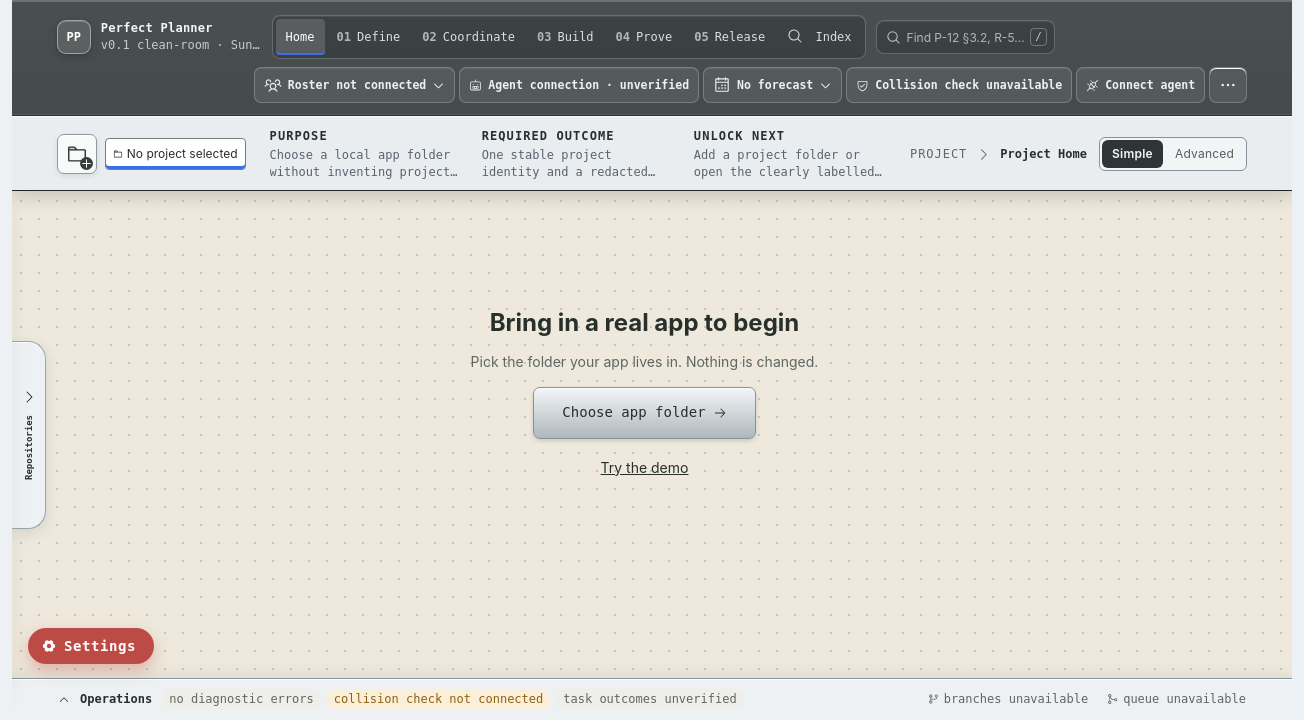
Test: project Home consumes the project-home model › empty Home is a short screen: headline, Choose app folder, and a demo link
Expected: the heading "Bring in a real app to begin" is shown, [490, 308, 799, 337]
Expected: the button "Try the demo" is shown, [596, 453, 692, 482]
Click the button "Choose app folder" at (644, 413), box [533, 387, 756, 439]
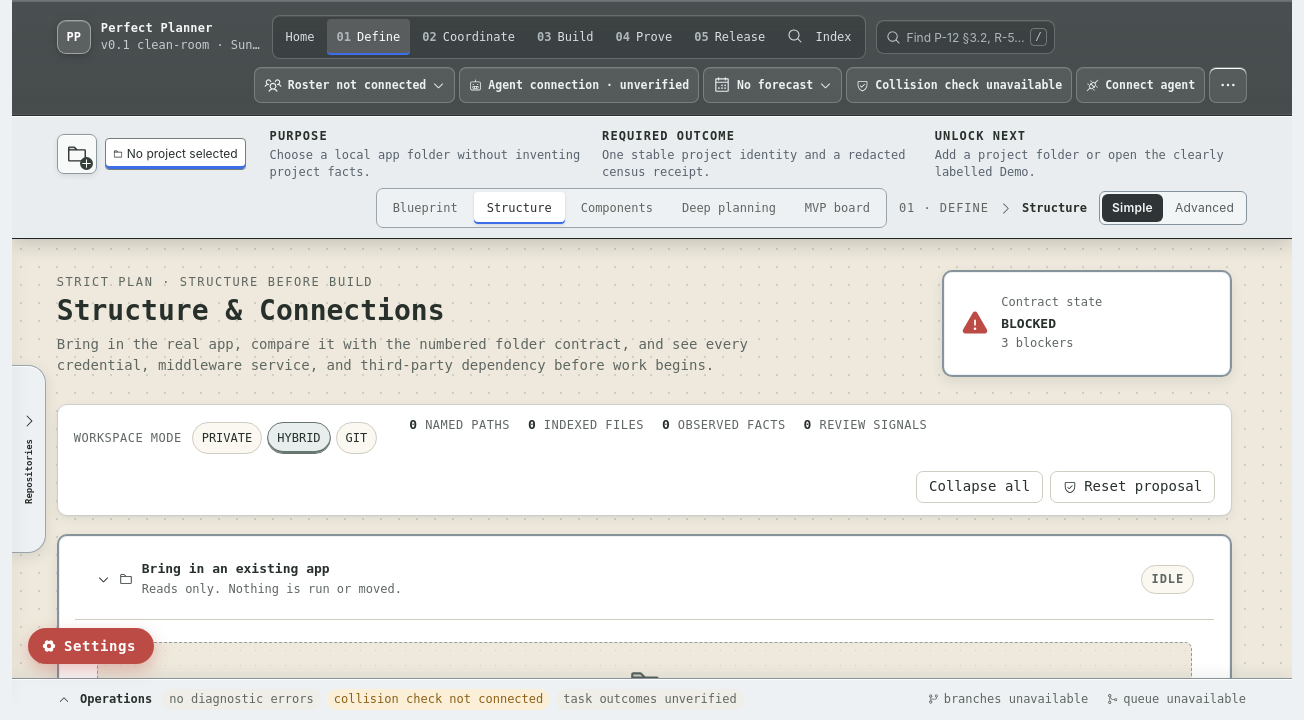
Expected: the element named "Strict folder contract workspace" is shown, [12, 240, 1292, 678]
